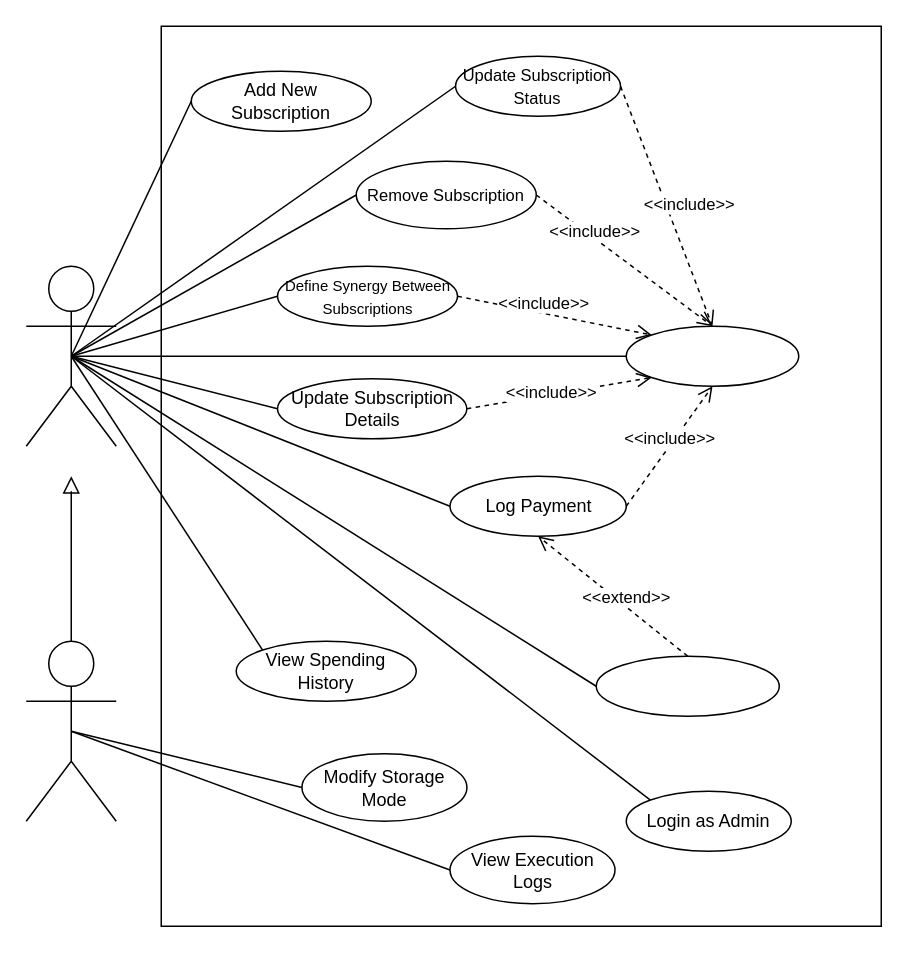
This 908x953 diagram has some shape labels left out. Each missing label, with the box of its shape:
Admin: (25, 640, 116, 821)
Register Payment Method: (595, 655, 779, 716)
User: (25, 265, 116, 446)
View Subscription Catalog: (625, 325, 799, 386)
